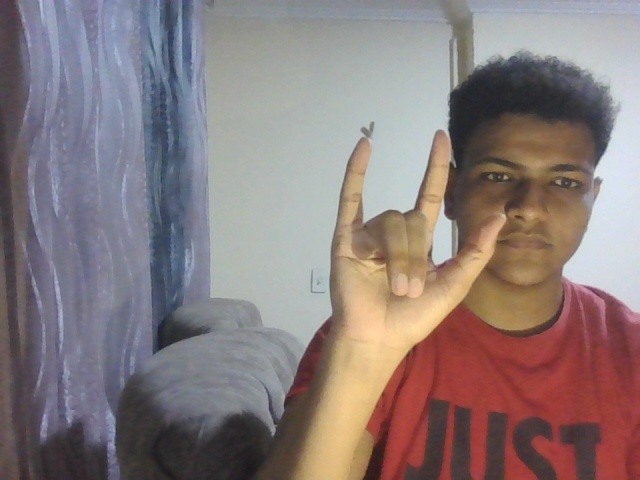iloveyou: (315, 114, 508, 369)
